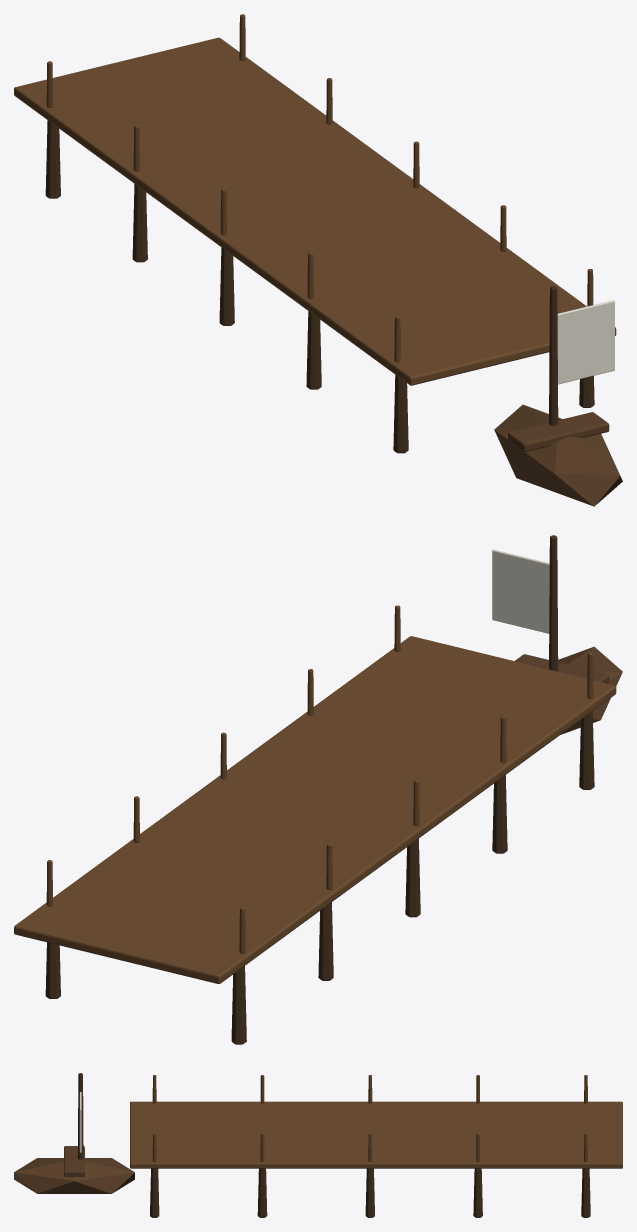
Rendered from dock.glb.
3 renders of one model, top to bottom at view 1: azimuth 30°, elevation 25°; view 2: azimuth 150°, elevation 25°; view 3: azimuth 270°, elevation 25°, orthographic. The views are drawn at different scales.
Parts seen in each view (by area): view 1: Cube, Icosphere, Cube.002, Cube.001, Cone.020, Cone.009, Cone.007, Cone.003, Cone.005, Cone.001; view 2: Cube, Cube.002, Icosphere, Cone.020, Cone.005, Cone.007, Cone.001, Cone.009, Cone.003, Cone, Cube.001; view 3: Cube, Icosphere, Cube.001, Cone.006, Cone, Cone.002, Cone.004, Cone.008, Cone.020.
Boxes of the visible parts, bbox=[...] form: Cube: bbox=[14, 37, 616, 385]; Icosphere: bbox=[494, 404, 622, 506]; Cube.002: bbox=[557, 300, 614, 384]; Cube.001: bbox=[508, 412, 609, 452]; Cone.020: bbox=[549, 286, 558, 425]; Cone.009: bbox=[393, 375, 408, 453]; Cone.007: bbox=[306, 311, 321, 389]; Cone.003: bbox=[132, 184, 147, 262]; Cone.005: bbox=[219, 247, 234, 325]; Cone.001: bbox=[45, 120, 60, 198]; Cube: bbox=[14, 636, 616, 983]; Cube.002: bbox=[492, 549, 549, 633]; Icosphere: bbox=[558, 646, 622, 734]; Cone.020: bbox=[549, 535, 558, 671]; Cone.005: bbox=[405, 838, 420, 917]; Cone.007: bbox=[492, 775, 507, 853]; Cone.001: bbox=[231, 966, 246, 1044]; Cone.009: bbox=[579, 711, 594, 789]; Cone.003: bbox=[318, 902, 333, 980]; Cone: bbox=[45, 942, 60, 998]; Cube.001: bbox=[515, 654, 609, 683]; Cube: bbox=[130, 1101, 622, 1168]; Icosphere: bbox=[14, 1158, 134, 1193]; Cube.001: bbox=[64, 1146, 84, 1176]; Cone.006: bbox=[257, 1168, 267, 1217]; Cone: bbox=[581, 1168, 590, 1217]; Cone.002: bbox=[473, 1168, 482, 1217]; Cone.004: bbox=[365, 1168, 374, 1217]; Cone.008: bbox=[150, 1168, 159, 1217]; Cone.020: bbox=[77, 1073, 83, 1159].
Bounding box in the file's own units: 2.4 × 2.13 × 9.88.
